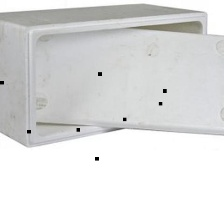foam_box: (0, 0, 224, 150)
